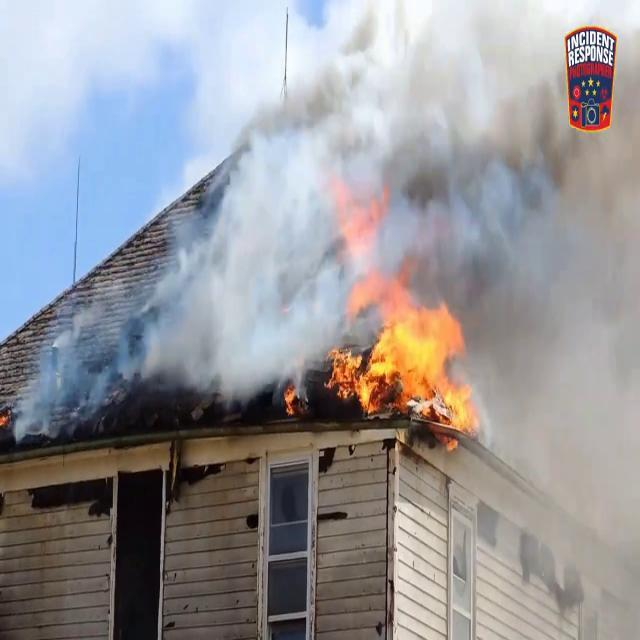Fire: (328, 287, 478, 429)
Smoke: (134, 0, 562, 352), (469, 56, 640, 636), (10, 196, 347, 434)
